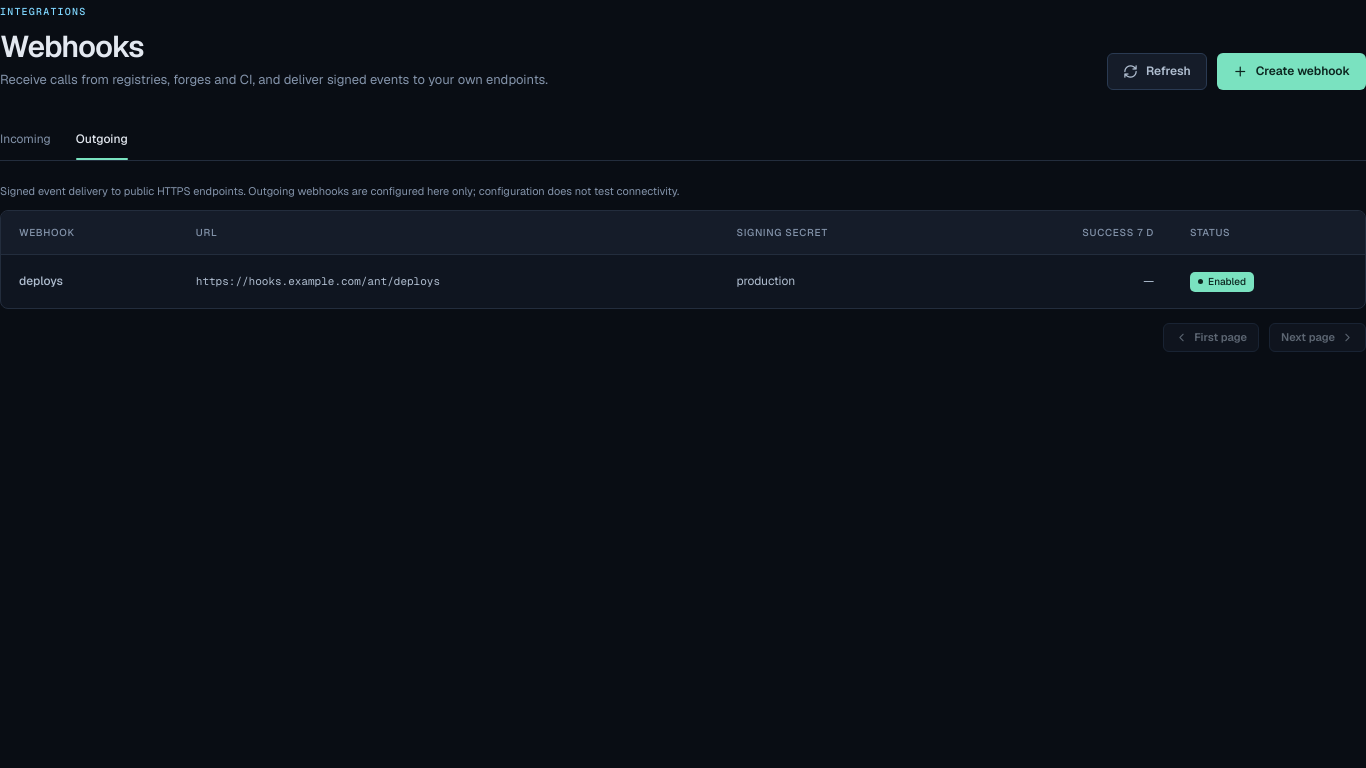
Test: warns which other webhooks share a secret before rotating it
Click the button "deploys". click: click(41, 281)
box: [19, 272, 63, 290]
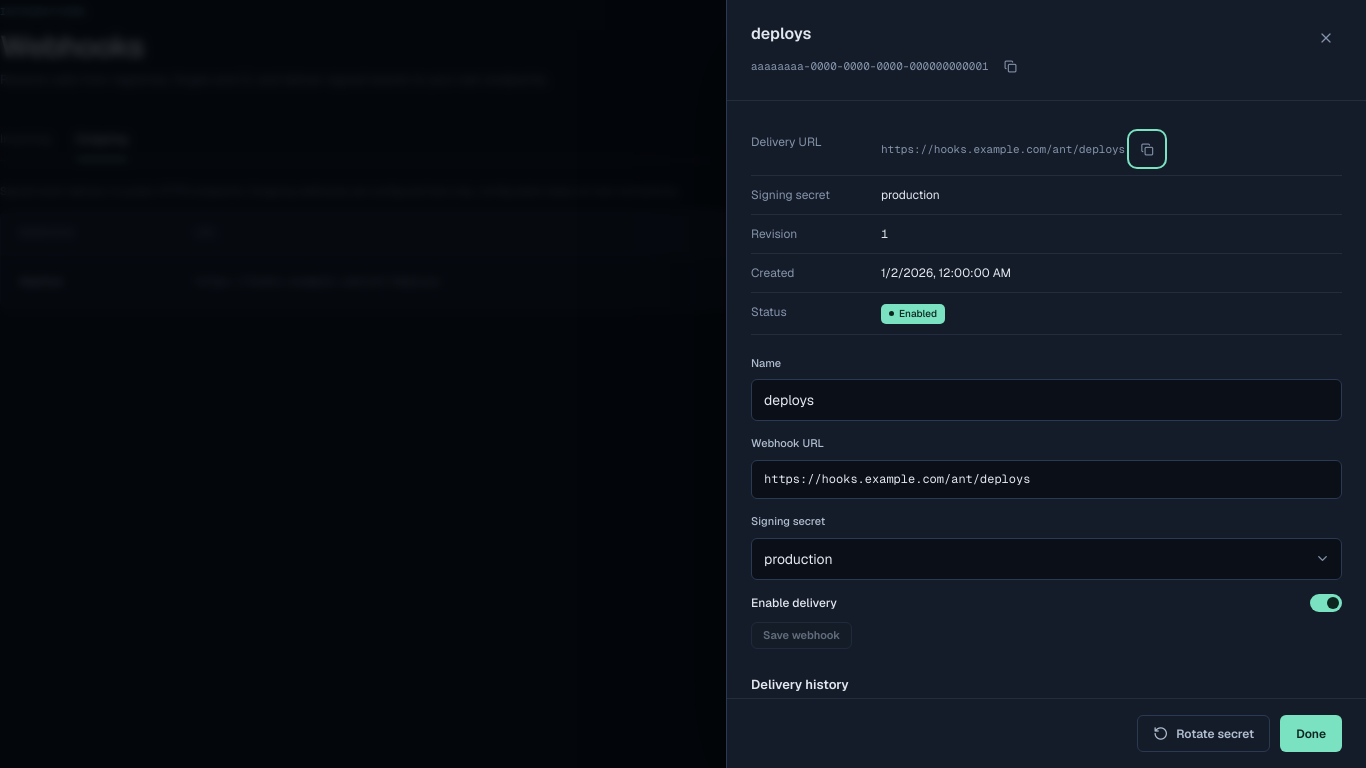
Click the button "Rotate secret". click: click(1204, 734)
box: [1137, 715, 1270, 752]
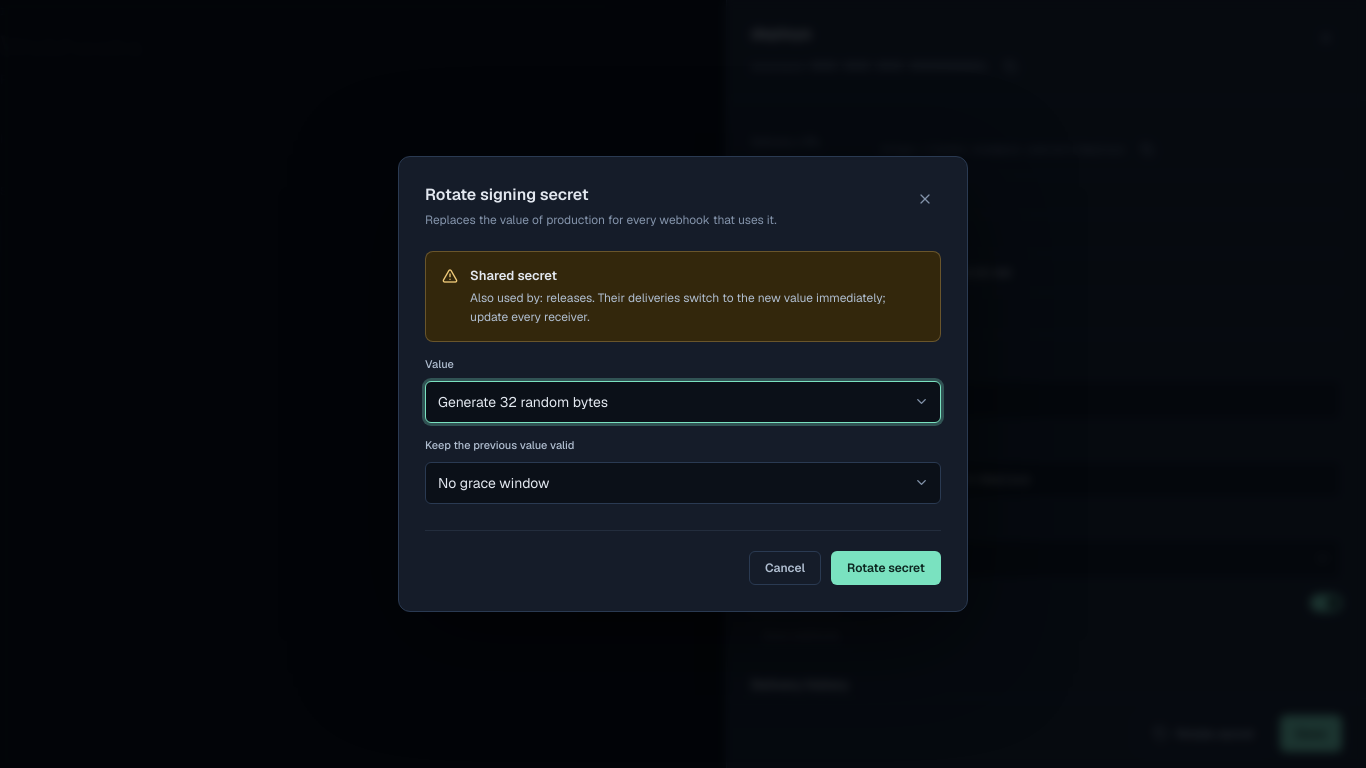
expect the text "Also used by: releases" is shown: met, box [470, 289, 924, 327]
Click the button "Rotate secret". click: click(886, 568)
box: [831, 551, 941, 585]
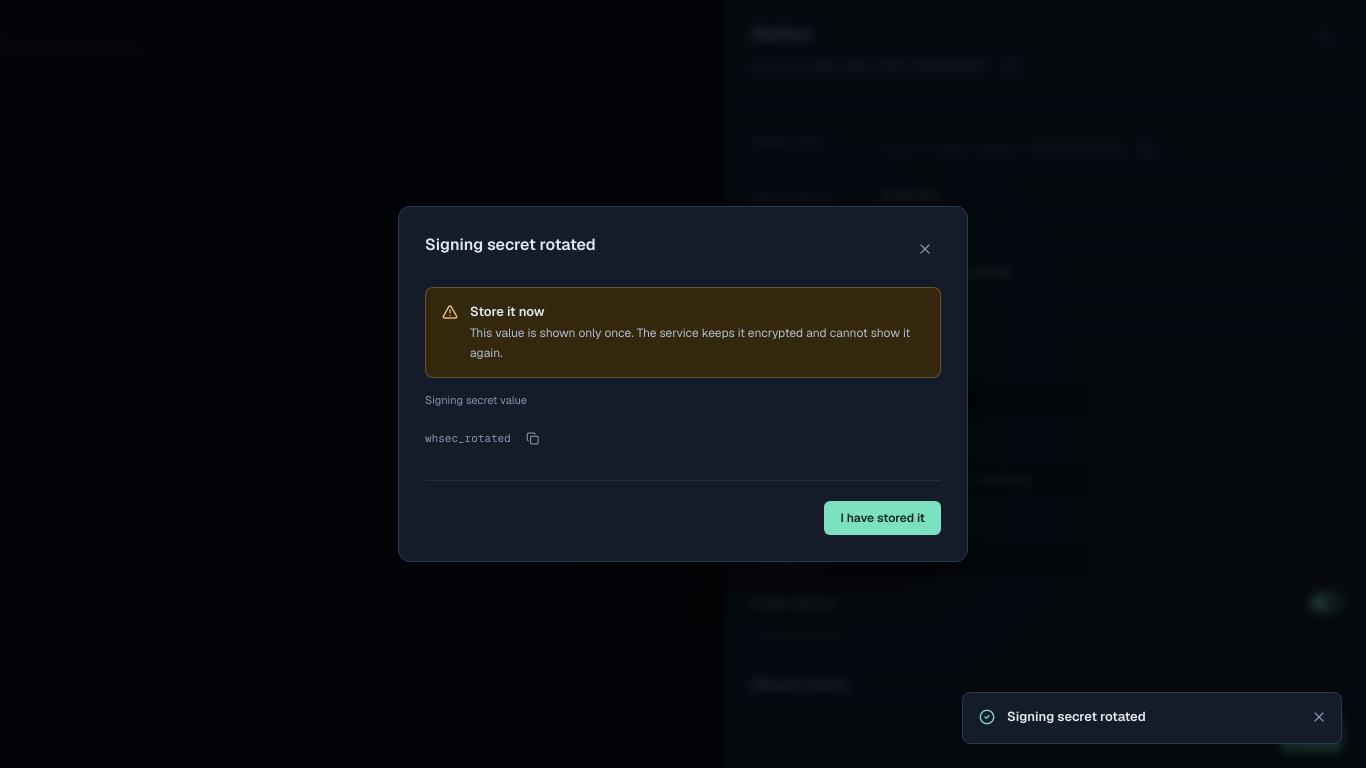
expect the element with test id "secret-value" reads "whsec_rotated": met, box [425, 431, 511, 445]
